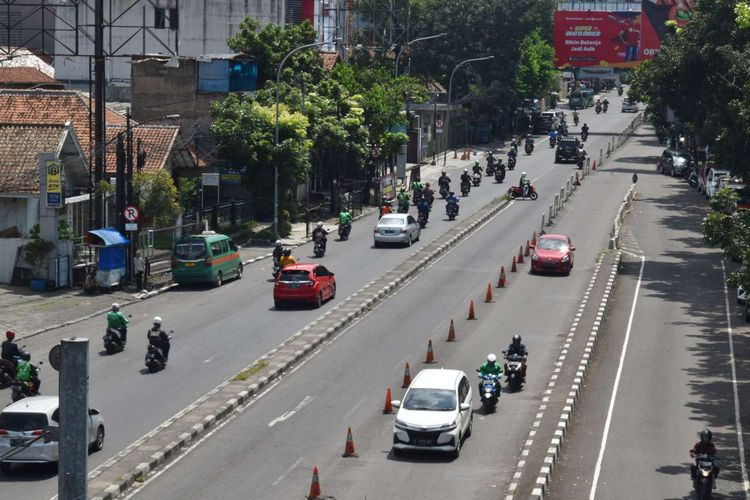car: (2, 396, 105, 472), (395, 367, 475, 460), (173, 231, 245, 288), (275, 262, 339, 306), (529, 233, 576, 280), (374, 213, 421, 246), (555, 136, 580, 167), (571, 86, 595, 111), (540, 109, 566, 131), (622, 96, 640, 113)
motorbike: (688, 426, 720, 499), (10, 348, 45, 403), (1, 330, 27, 390), (144, 317, 171, 372), (479, 354, 504, 412), (502, 332, 527, 390), (104, 302, 129, 358), (510, 174, 539, 204), (337, 207, 354, 242), (313, 222, 327, 258), (417, 198, 431, 231), (272, 241, 282, 282), (438, 171, 451, 200), (398, 188, 410, 218), (446, 192, 458, 221), (460, 169, 471, 199), (381, 196, 393, 223), (422, 182, 434, 208), (413, 175, 422, 208), (472, 160, 482, 189), (495, 157, 506, 183), (508, 147, 518, 171), (486, 151, 495, 177), (525, 134, 535, 157), (578, 143, 586, 168), (580, 123, 589, 144), (572, 109, 581, 126), (557, 124, 565, 143), (550, 129, 557, 148)
